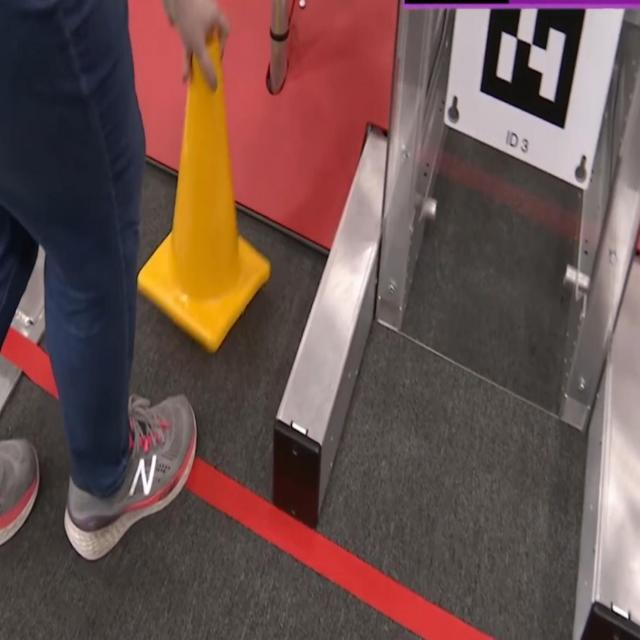frc_cone: (134, 24, 274, 362)
